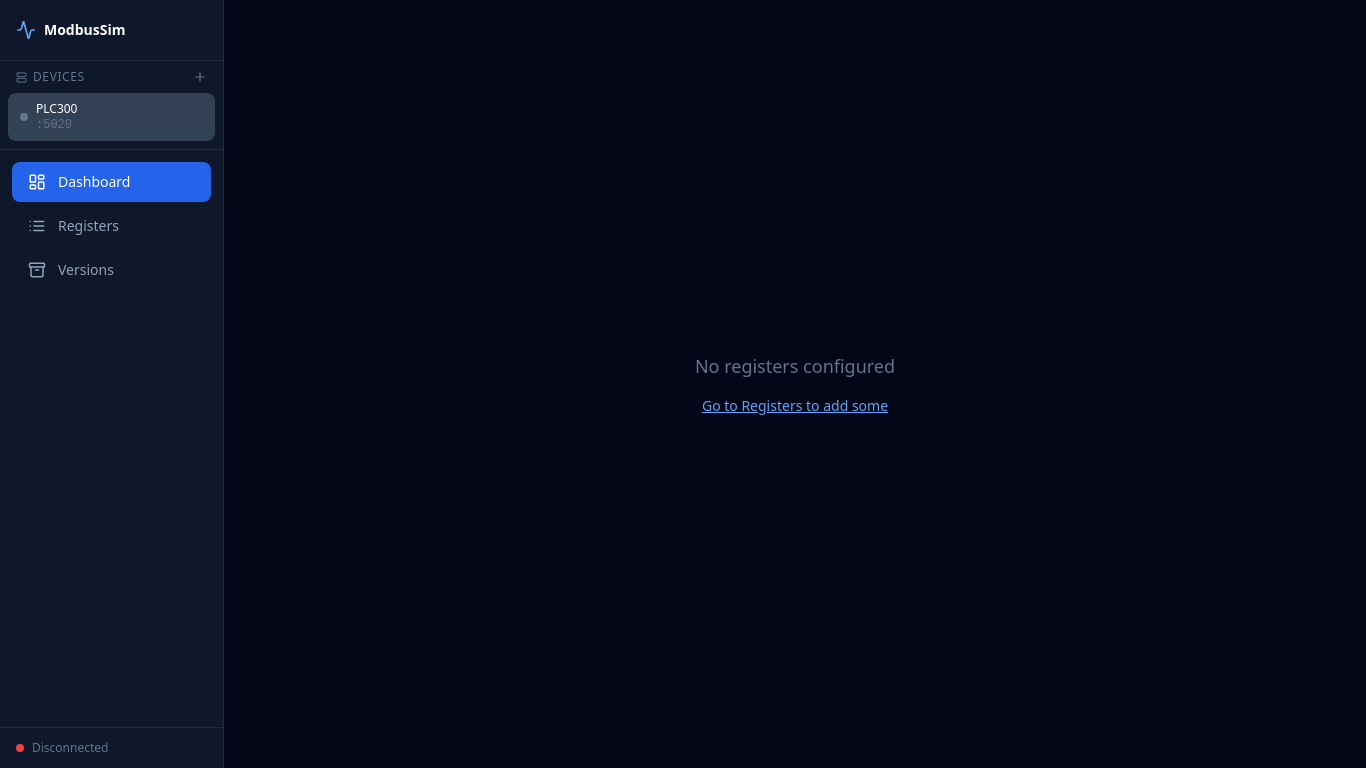
Scenario: AppShell — Add Device modal › shows error when createDevice fails
The image size is (1366, 768).
Check: the text "PLC300" is shown, box [36,100,78,117]
Click the button titled "Add Device" at [200, 77], box [193,70,207,84]
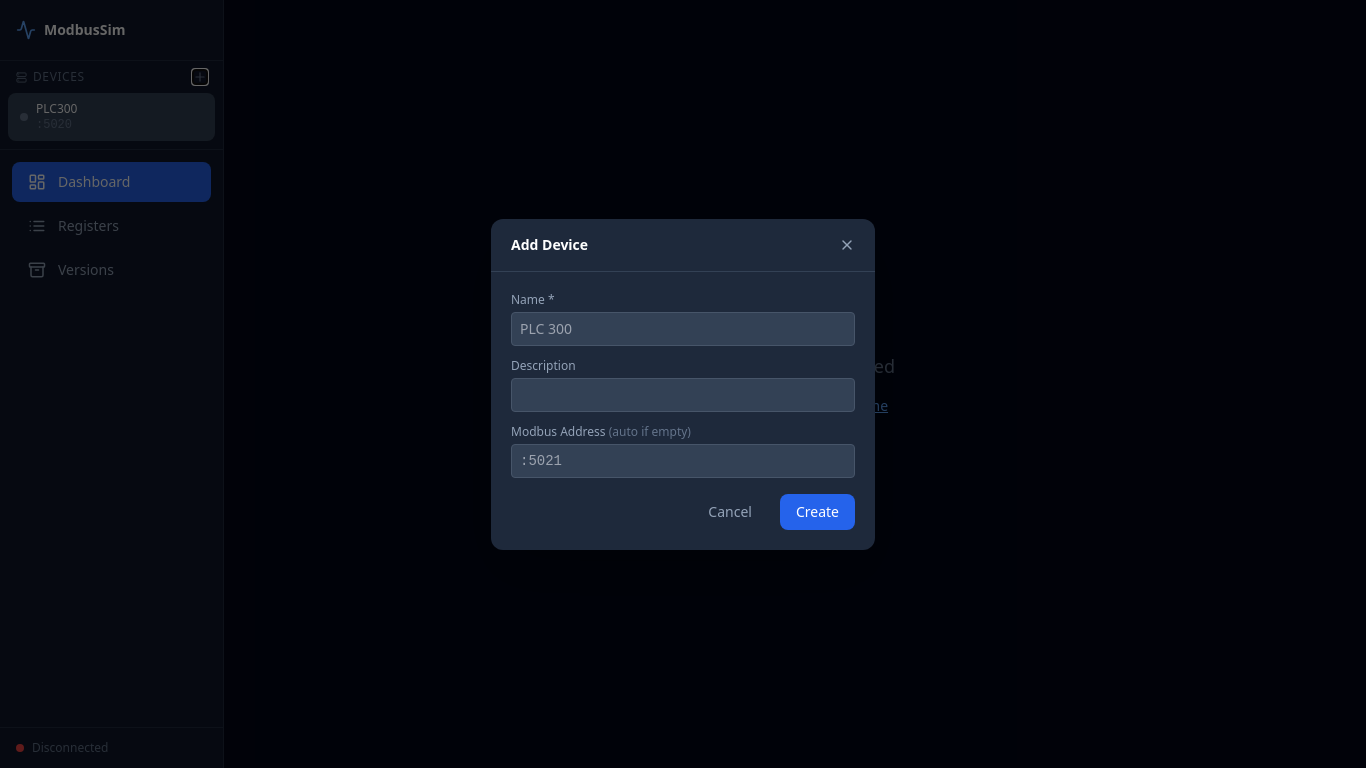
Type "Bad" into the field with placeholder "PLC 300" at [683, 328], box [511,312,855,346]
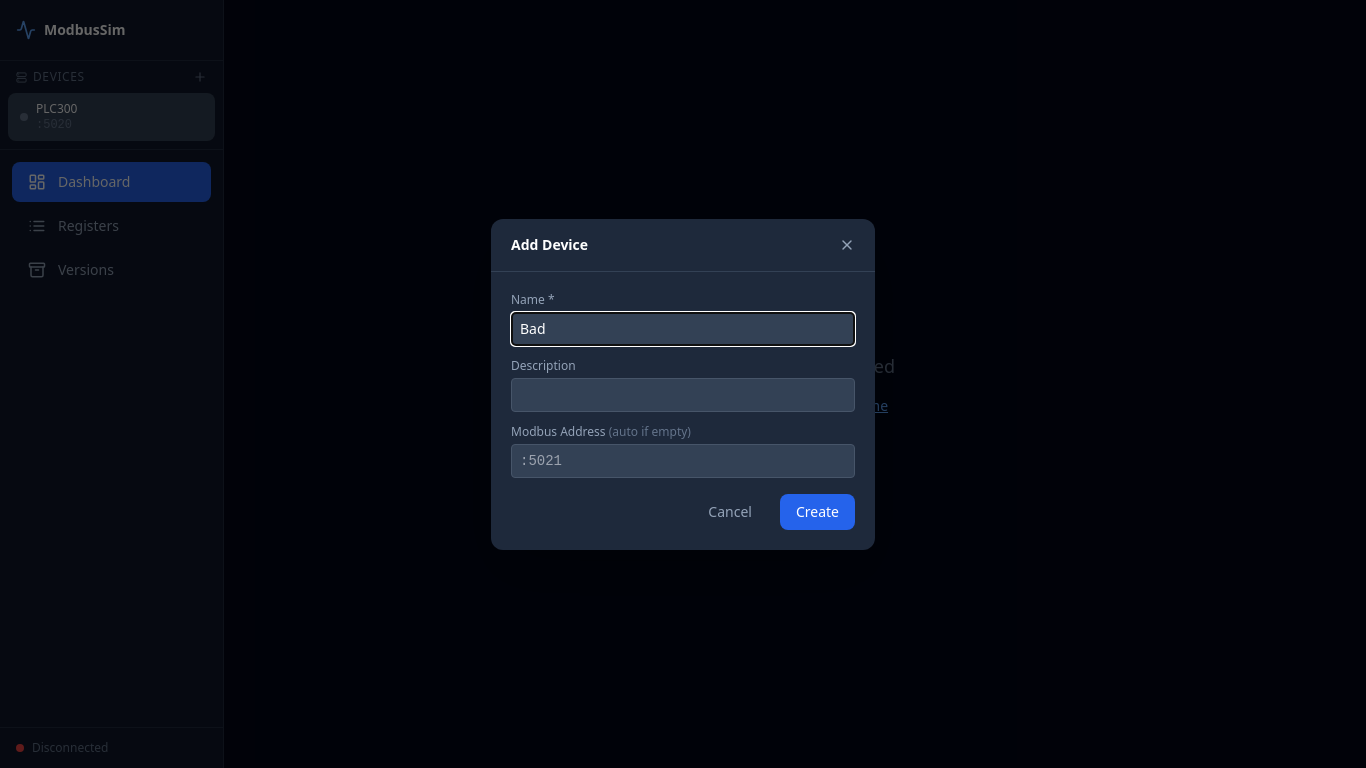
Click the button "Create" at [817, 512], box [780,494,855,530]
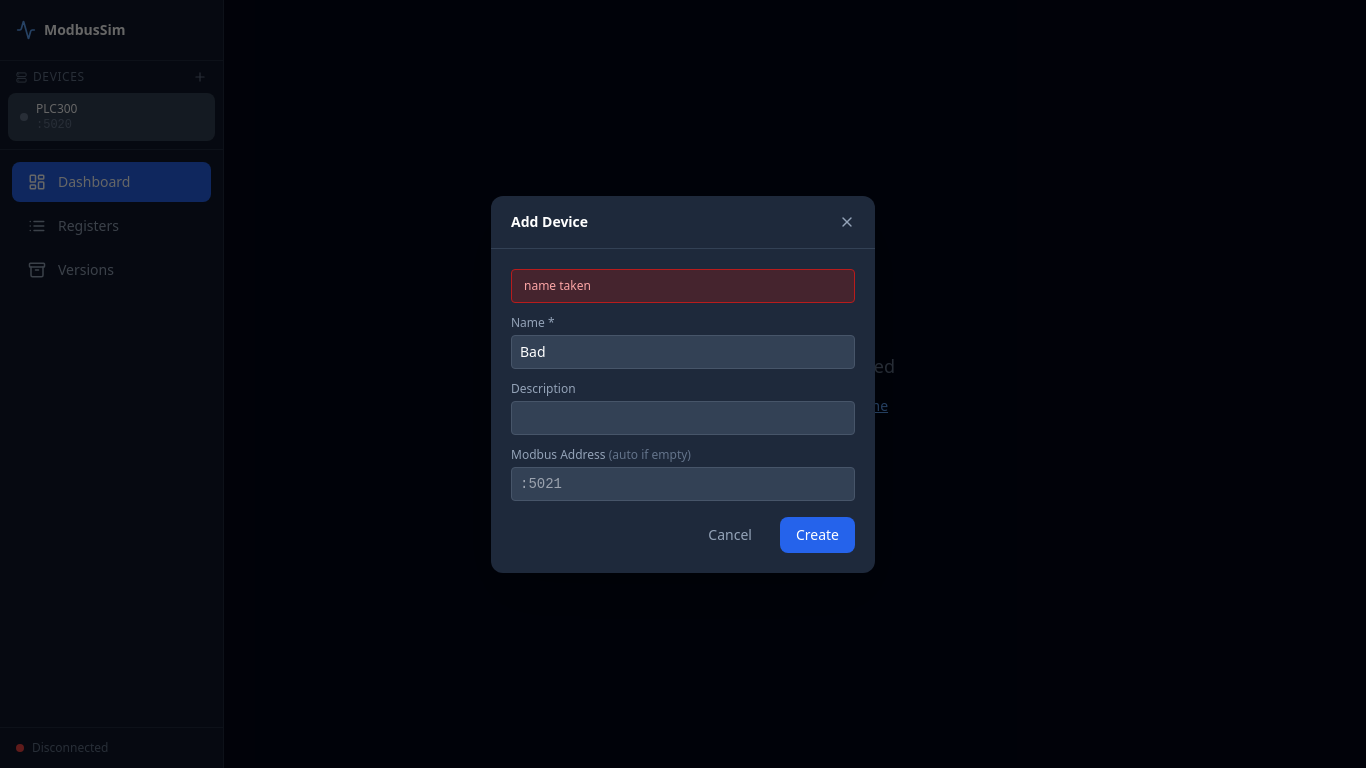
Check: the text "name taken" is shown, box [524,276,591,294]
